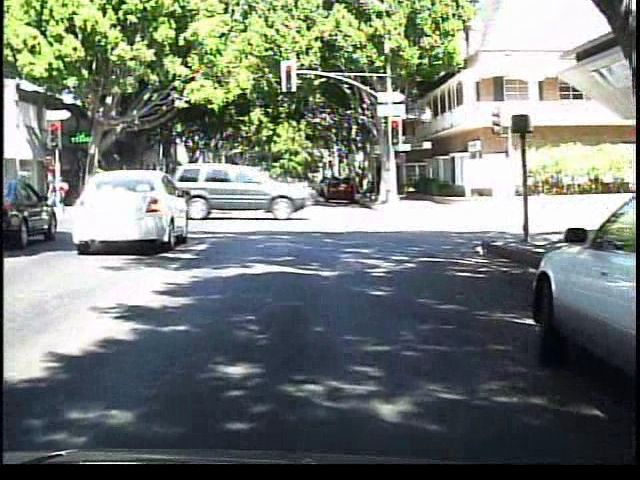person: (50, 165, 74, 212)
